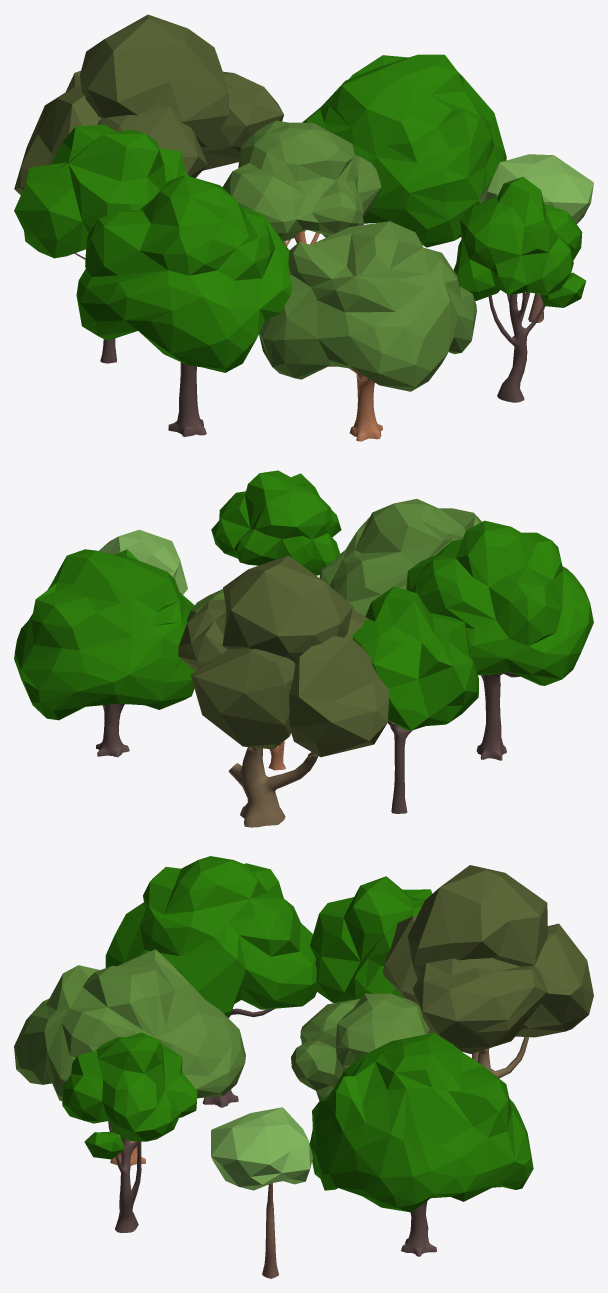
Rendered from tree.fbx.
3 views of the same model, one above another, from view 1: azimuth 30°, elevation 25°; view 2: azimuth 150°, elevation 25°; view 3: azimuth 270°, elevation 25° (orthographic). The views are drawn at different scales.
Parts seen in each view (by area): view 1: PK_tree_003, PK_tree_004, PK_tree_006, PK_tree_001, PK_tree_008, PK_tree_002, PK_tree_005, PK_tree_007; view 2: PK_tree_001, PK_tree_006, PK_tree_003, PK_tree_002, PK_tree_008, PK_tree_004, PK_tree_007, PK_tree_005; view 3: PK_tree_006, PK_tree_001, PK_tree_003, PK_tree_004, PK_tree_008, PK_tree_002, PK_tree_005, PK_tree_007.
Part boxes in pixels (<box>): PK_tree_003: <box>76,175,291,436</box>; PK_tree_004: <box>259,221,476,441</box>; PK_tree_006: <box>302,54,506,247</box>; PK_tree_001: <box>14,14,283,194</box>; PK_tree_008: <box>453,176,585,402</box>; PK_tree_002: <box>14,124,188,363</box>; PK_tree_005: <box>222,120,381,246</box>; PK_tree_007: <box>479,154,593,322</box>; PK_tree_001: <box>178,555,389,827</box>; PK_tree_006: <box>14,549,194,757</box>; PK_tree_003: <box>406,520,593,760</box>; PK_tree_002: <box>352,586,478,813</box>; PK_tree_008: <box>211,470,341,575</box>; PK_tree_004: <box>319,499,481,616</box>; PK_tree_007: <box>99,529,187,594</box>; PK_tree_005: <box>187,589,285,770</box>; PK_tree_006: <box>309,1033,533,1256</box>; PK_tree_001: <box>382,865,593,1078</box>; PK_tree_003: <box>105,856,316,1107</box>; PK_tree_004: <box>14,949,245,1167</box>; PK_tree_008: <box>62,1032,197,1232</box>; PK_tree_002: <box>310,876,432,1003</box>; PK_tree_005: <box>291,993,430,1100</box>; PK_tree_007: <box>211,1107,312,1278</box>.
Size of the model in its own units: 1521 by 812 by 1548.
